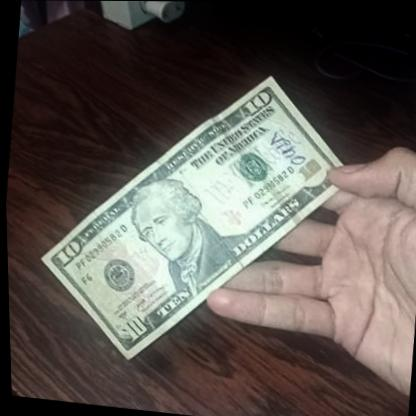ten-front: (17, 47, 371, 386)
